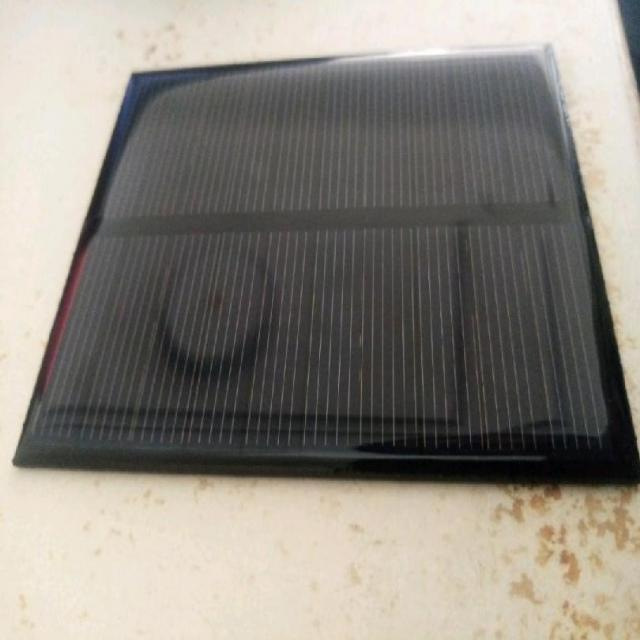no faulty: (86, 71, 595, 494)
